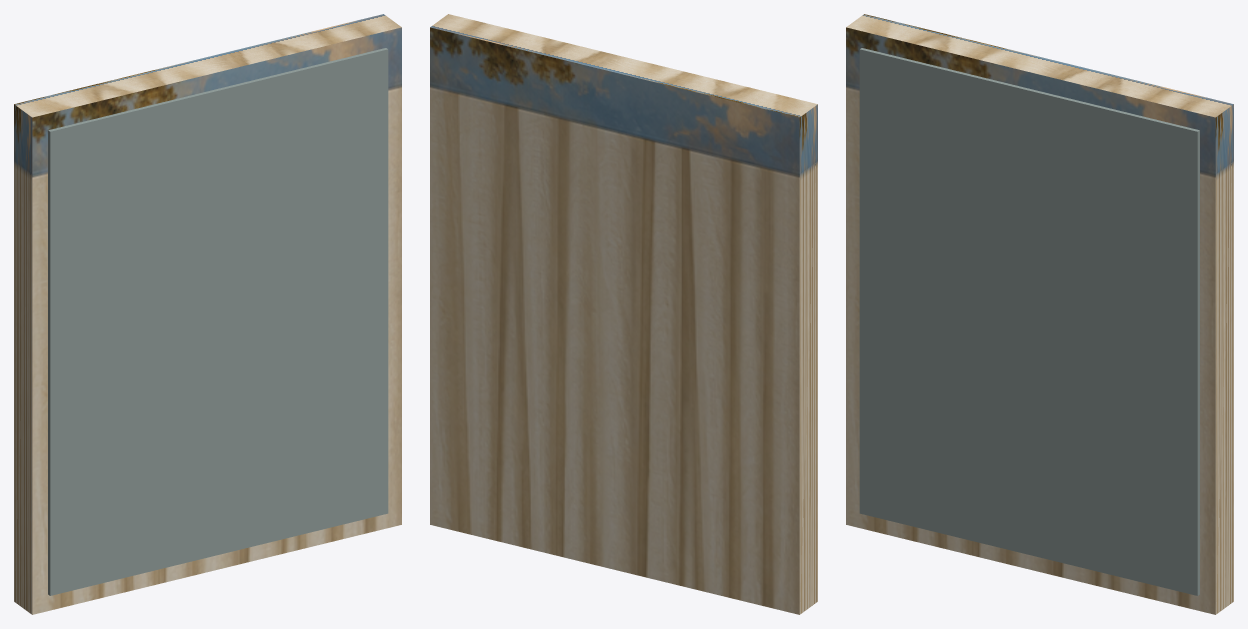
Rendered from gilt-mirror.gltf.
3 renders of one model, left to right at view 1: azimuth 30°, elevation 25°; view 2: azimuth 150°, elevation 25°; view 3: azimuth 330°, elevation 25°, orthographic.
Visible parts, largest first — view 1: kit:0:furniture:mirror:, kit:0:furniture:gold:; view 2: kit:0:furniture:gold:; view 3: kit:0:furniture:mirror:, kit:0:furniture:gold:.
Part boxes in pixels (box(x1,y1,x2,y2)): kit:0:furniture:mirror:: box(48, 48, 388, 595); kit:0:furniture:gold:: box(14, 14, 401, 614); kit:0:furniture:gold:: box(430, 14, 817, 614); kit:0:furniture:mirror:: box(859, 48, 1199, 595); kit:0:furniture:gold:: box(846, 14, 1233, 614).
Size of the model in its own units: 1.4 by 1.8 by 0.1335.
Materials: 2 (1 with a texture image).
